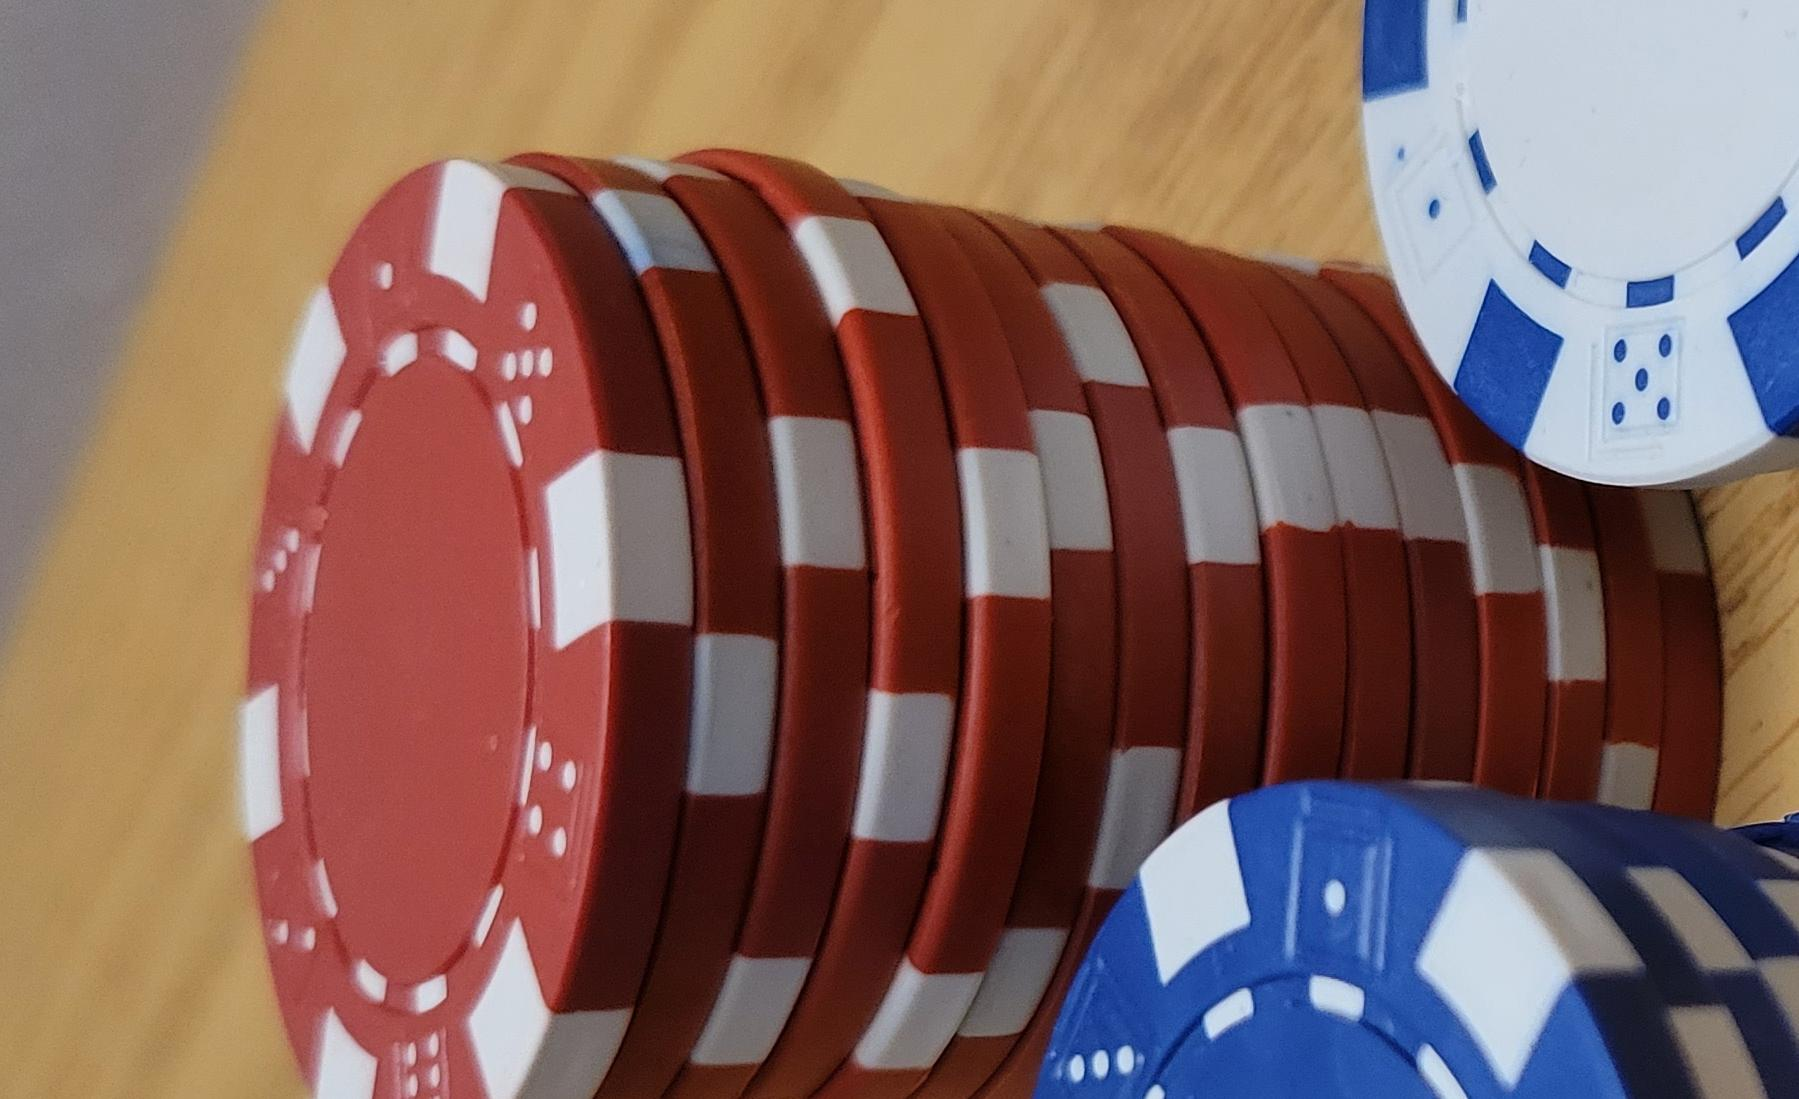Chip: (1, 276, 1315, 1099)
